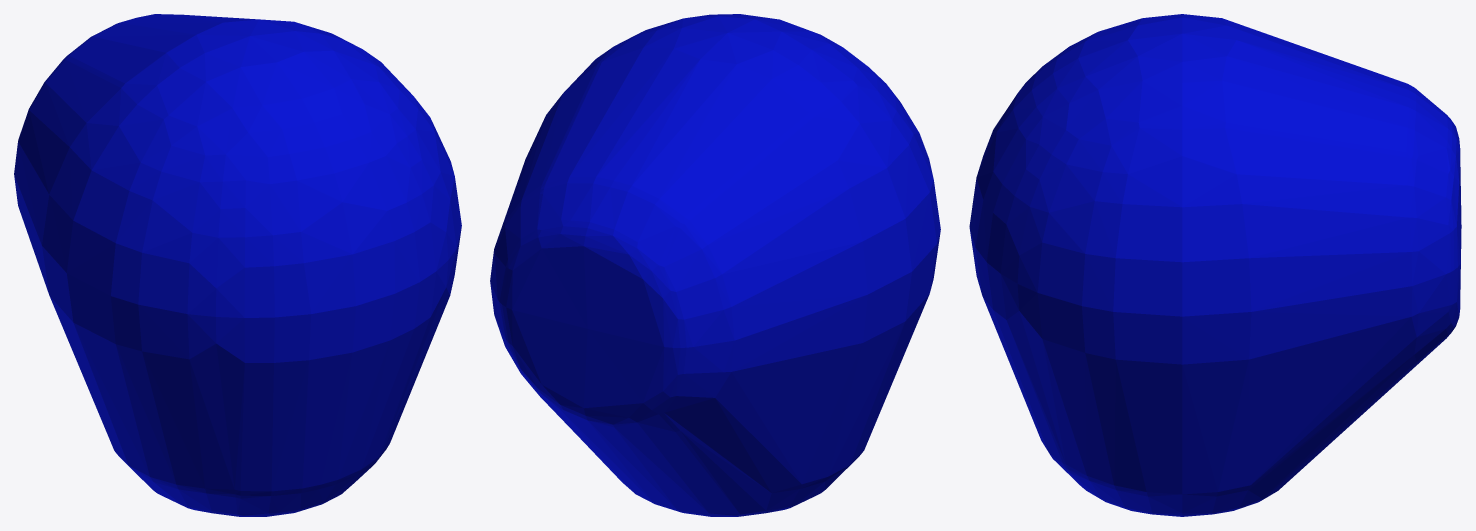
Rendered from COL_hollie_real.002.dae.
The picture shows the model from 3 angles, left to right: view 1: azimuth 30°, elevation 25°; view 2: azimuth 150°, elevation 25°; view 3: azimuth 270°, elevation 25°; orthographic projection.
Parts seen in each view (by area): view 1: COL_COL_COL_VIS_VIS_VIS_VIS_VIS_VIS_VIS_VIS_VIS_hollie_real_; view 2: COL_COL_COL_VIS_VIS_VIS_VIS_VIS_VIS_VIS_VIS_VIS_hollie_real_; view 3: COL_COL_COL_VIS_VIS_VIS_VIS_VIS_VIS_VIS_VIS_VIS_hollie_real_.
Part boxes in pixels (x1=…): COL_COL_COL_VIS_VIS_VIS_VIS_VIS_VIS_VIS_VIS_VIS_hollie_real_: x1=14, y1=14, x2=461, y2=516; COL_COL_COL_VIS_VIS_VIS_VIS_VIS_VIS_VIS_VIS_VIS_hollie_real_: x1=490, y1=14, x2=940, y2=516; COL_COL_COL_VIS_VIS_VIS_VIS_VIS_VIS_VIS_VIS_VIS_hollie_real_: x1=969, y1=14, x2=1461, y2=516.
Bounding box in the file's own units: 0.1847 × 0.2138 × 0.2138.
